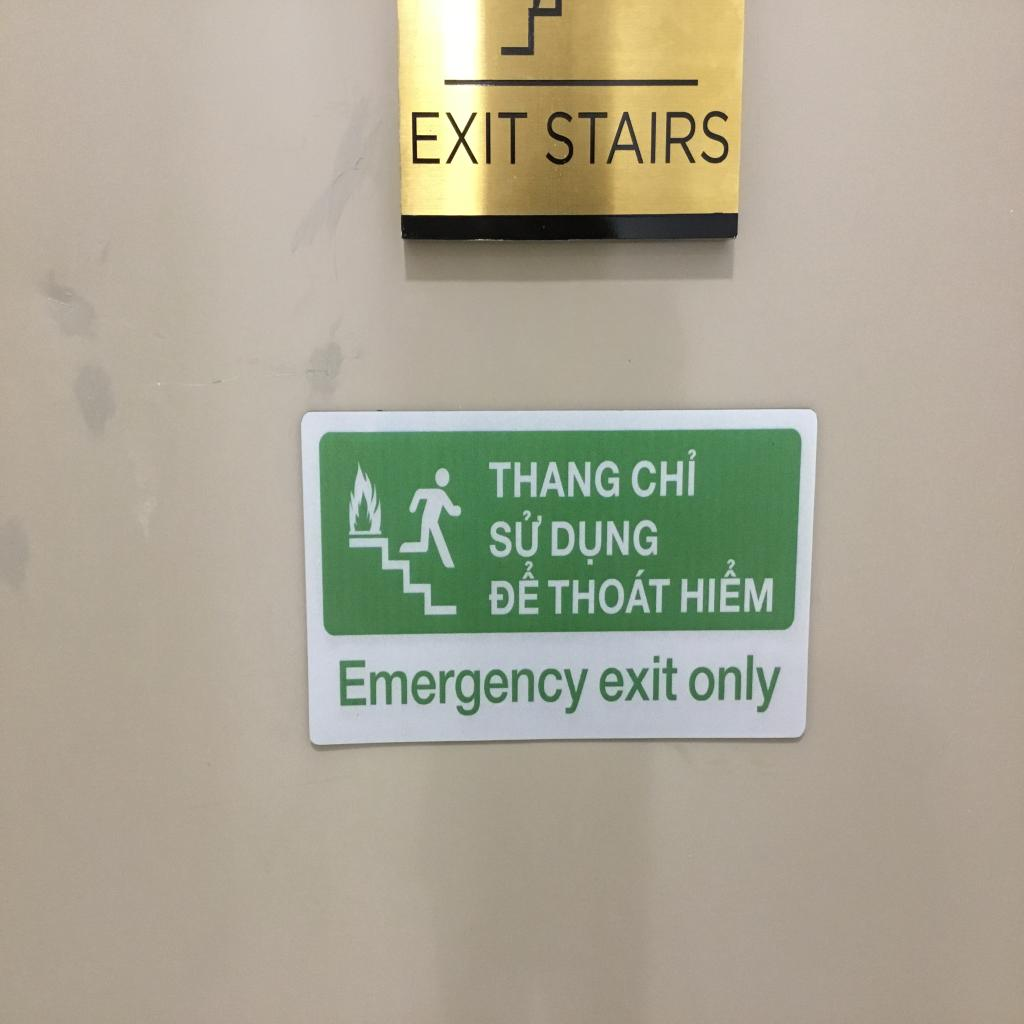text: (338, 653, 596, 720), (545, 108, 732, 168), (411, 108, 528, 170), (546, 564, 673, 616), (679, 552, 776, 616), (487, 458, 622, 502), (550, 515, 660, 569), (598, 649, 680, 707), (631, 445, 699, 501), (486, 557, 542, 618), (488, 508, 546, 562)
